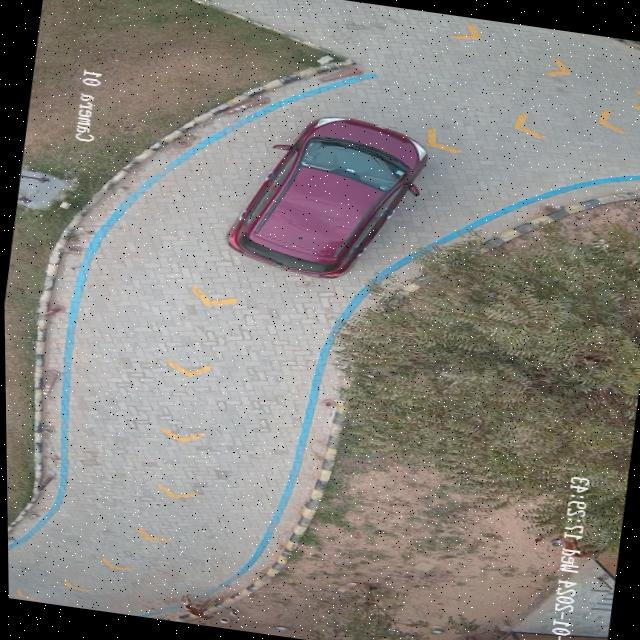car: (228, 117, 426, 279)
